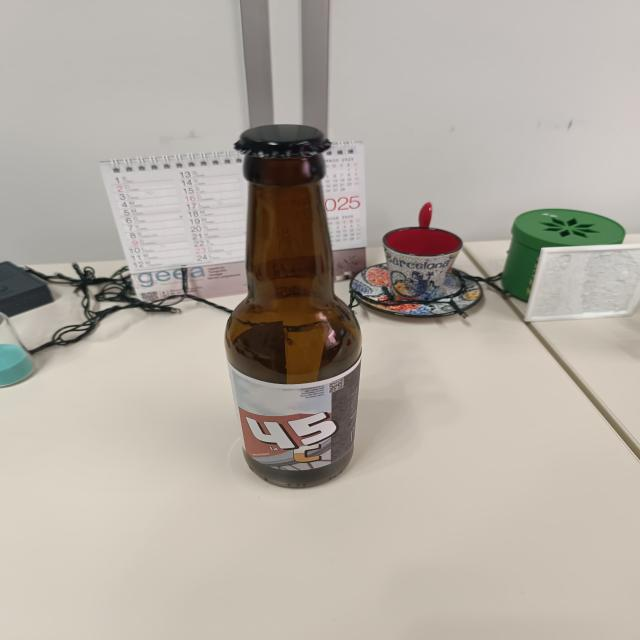Bottle: (226, 122, 365, 491)
Cap: (227, 121, 340, 162)
Label: (227, 357, 359, 476)
